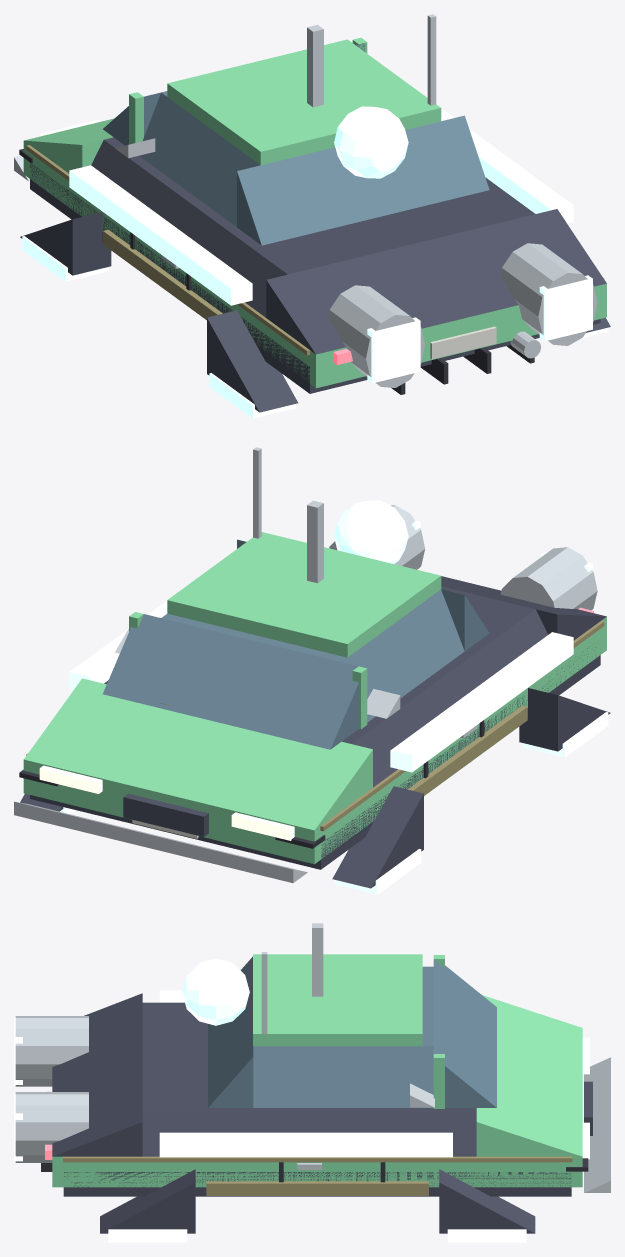
The model's file is aurora_arc.glb.
3 views of the same model, one above another, from view 1: azimuth 30°, elevation 25°; view 2: azimuth 150°, elevation 25°; view 3: azimuth 270°, elevation 25° (orthographic). The views are drawn at different scales.
Parts seen in each view (by area): view 1: Tail.113, Roof.313, RearWindow.213, BodyUpper.110, Body.313, CabinSideL.110, ShoulderL.110, FloatFin-1.055, HoverPodWheel_RL.055, Sill.309, EnergyCore.055, Thruster1.055 (+16 smaller); view 2: Nose.110, Windshield.213, Roof.313, Body.313, ShoulderL.110, CabinSideL.110, FloatFin-1.055, HoverPodWheel_FL.055, Bumper.309, Sill.309, Thruster-1.055, EnergyCore.055 (+18 smaller); view 3: Roof.313, Nose.110, Body.313, CabinSideR.110, Tail.113, BodyUpper.110, ShoulderR.110, FloatFin1.055, Windshield.213, Sill.309, RearWindow.213, Thruster-1.055 (+14 smaller).
Boxes of the visible parts, left/top/right/bottom form: Tail.113: left=266, top=209, right=606, bottom=354; Roof.313: left=167, top=39, right=441, bottom=165; RearWindow.213: left=237, top=115, right=489, bottom=245; BodyUpper.110: left=104, top=137, right=535, bottom=274; Body.313: left=23, top=141, right=606, bottom=388; CabinSideL.110: left=139, top=92, right=259, bottom=226; ShoulderL.110: left=91, top=140, right=287, bottom=317; FloatFin-1.055: left=69, top=165, right=252, bottom=305; HoverPodWheel_RL.055: left=207, top=310, right=298, bottom=412; Sill.309: left=30, top=163, right=600, bottom=393; EnergyCore.055: left=334, top=106, right=408, bottom=178; Thruster1.055: left=500, top=243, right=597, bottom=345; Nose.110: left=24, top=678, right=372, bottom=830; Windshield.213: left=103, top=614, right=358, bottom=749; Roof.313: left=167, top=532, right=441, bottom=657; Body.313: left=23, top=617, right=606, bottom=864; ShoulderL.110: left=352, top=609, right=548, bottom=787; CabinSideL.110: left=342, top=589, right=464, bottom=722; FloatFin-1.055: left=390, top=632, right=573, bottom=772; HoverPodWheel_FL.055: left=332, top=786, right=423, bottom=888; Bumper.309: left=14, top=801, right=307, bottom=882; Sill.309: left=30, top=646, right=600, bottom=869; Thruster-1.055: left=500, top=547, right=597, bottom=610; EnergyCore.055: left=334, top=500, right=408, bottom=563; Roof.313: left=253, top=954, right=422, bottom=1046; Nose.110: left=476, top=995, right=582, bottom=1156; Body.313: left=52, top=1156, right=582, bottom=1187; CabinSideR.110: left=253, top=1046, right=433, bottom=1107; Tail.113: left=52, top=993, right=142, bottom=1156; BodyUpper.110: left=142, top=1002, right=476, bottom=1112; ShoulderR.110: left=142, top=1112, right=476, bottom=1156; FloatFin1.055: left=159, top=1132, right=452, bottom=1157; Windshield.213: left=433, top=959, right=496, bottom=1107; Sill.309: left=63, top=1172, right=571, bottom=1196; RearWindow.213: left=208, top=956, right=253, bottom=1107; Thruster-1.055: left=15, top=1016, right=88, bottom=1086.
Bounding box in the file's own units: 3.3 × 2.44 × 5.29.
